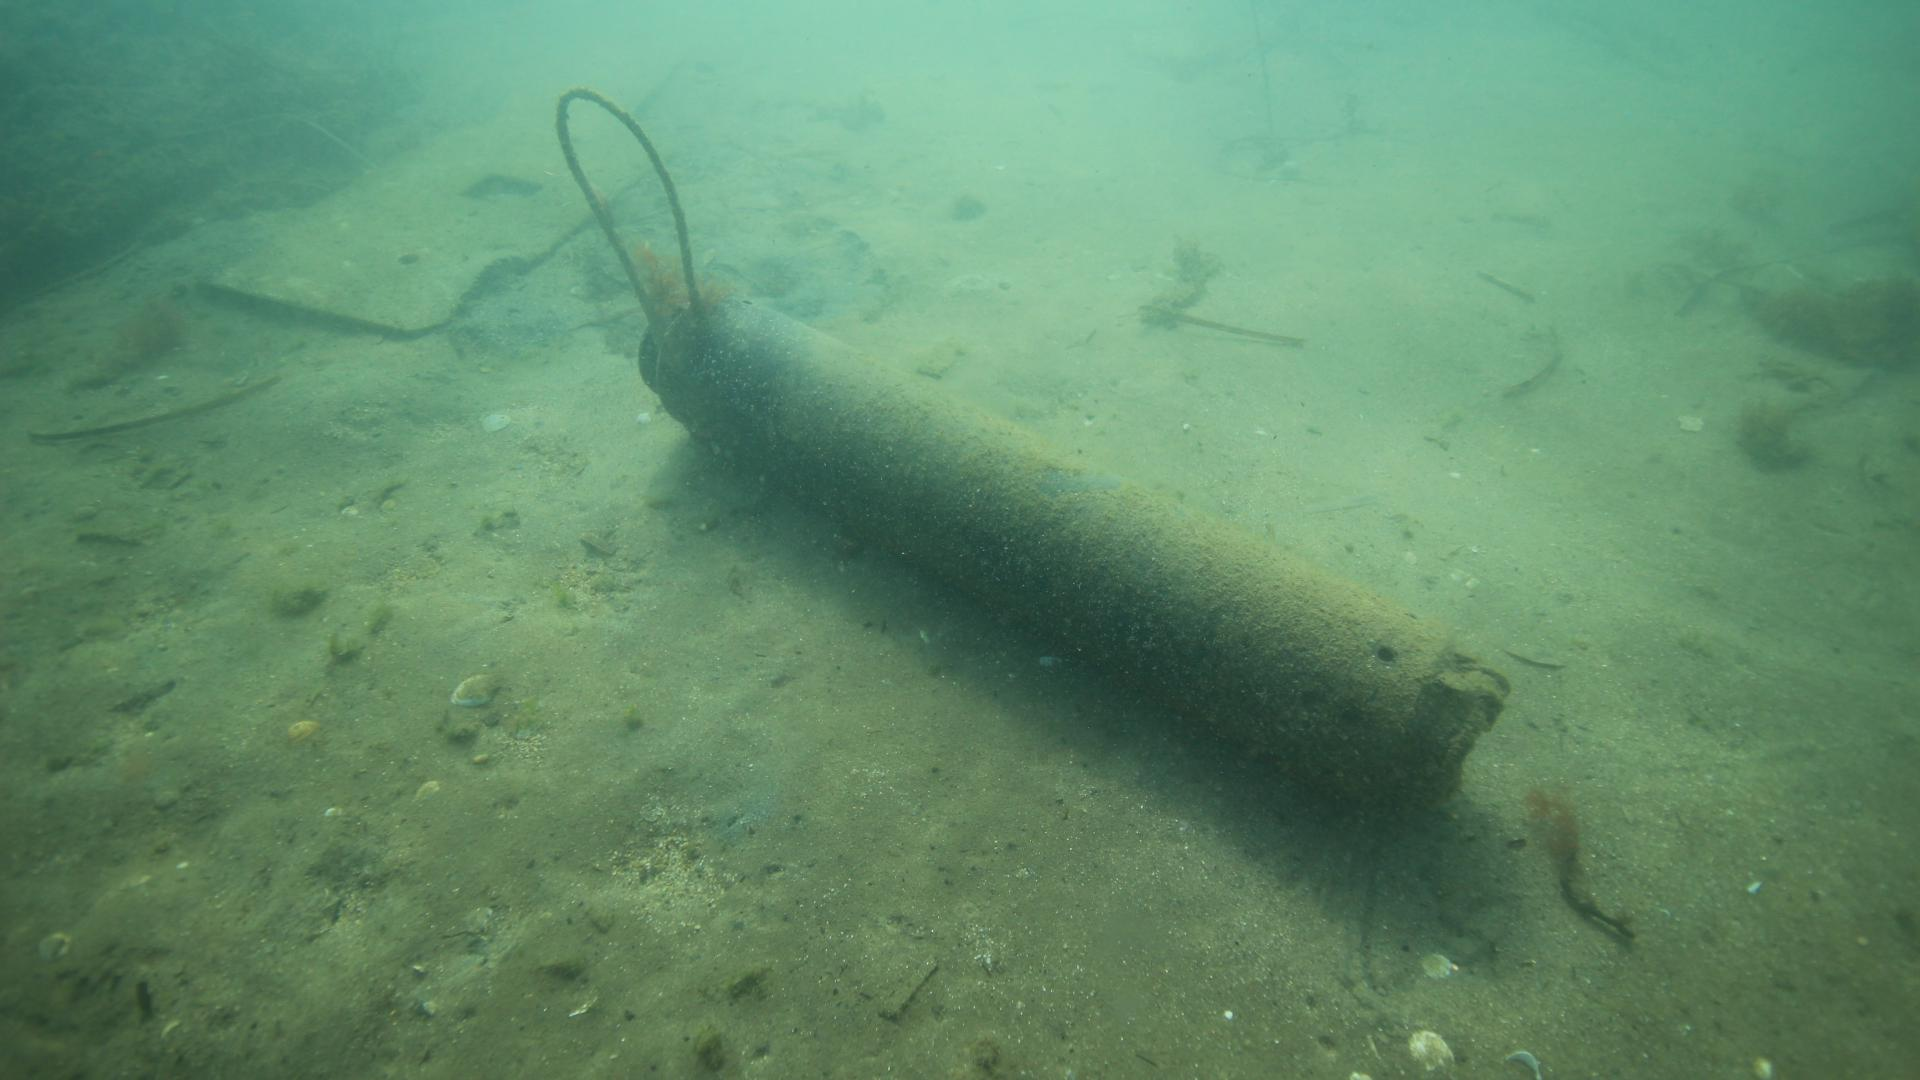eel fish trap: (633, 284, 1514, 815)
rope: (553, 84, 703, 342)
